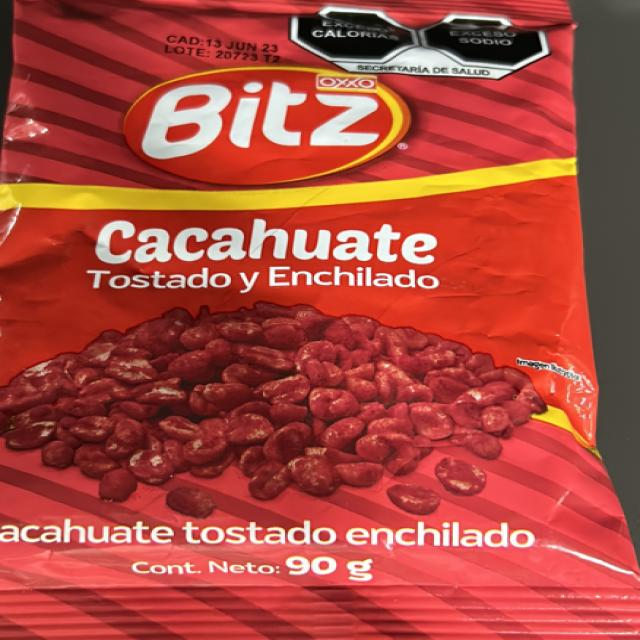bitzEnchilado90: (19, 0, 570, 640)
